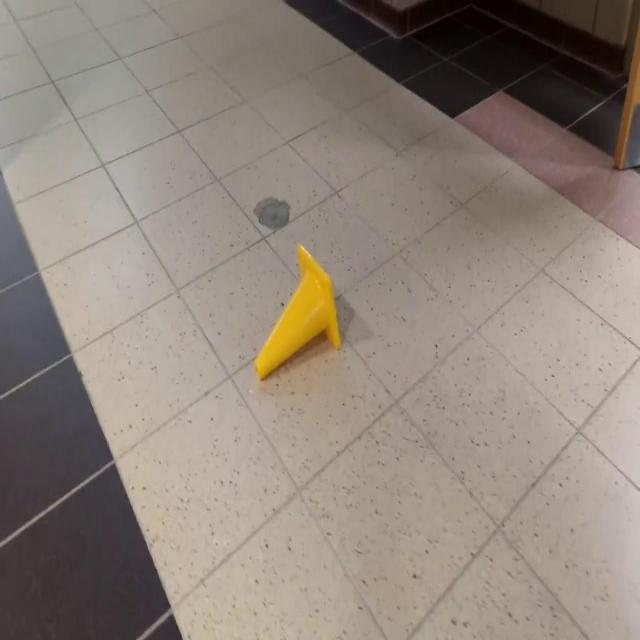frc_cone: (254, 244, 342, 382)
